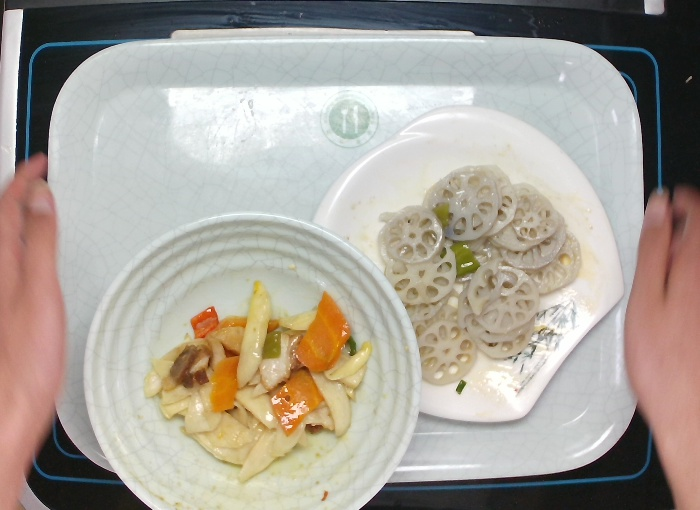JYsf-Da_Tang_Wan: (77, 207, 426, 509)
JYsf-Mian_Pan: (306, 101, 628, 428)
